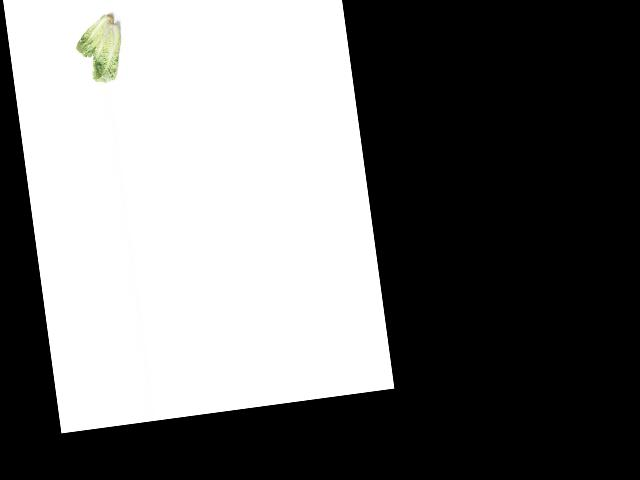lettuce: (71, 10, 119, 59)
